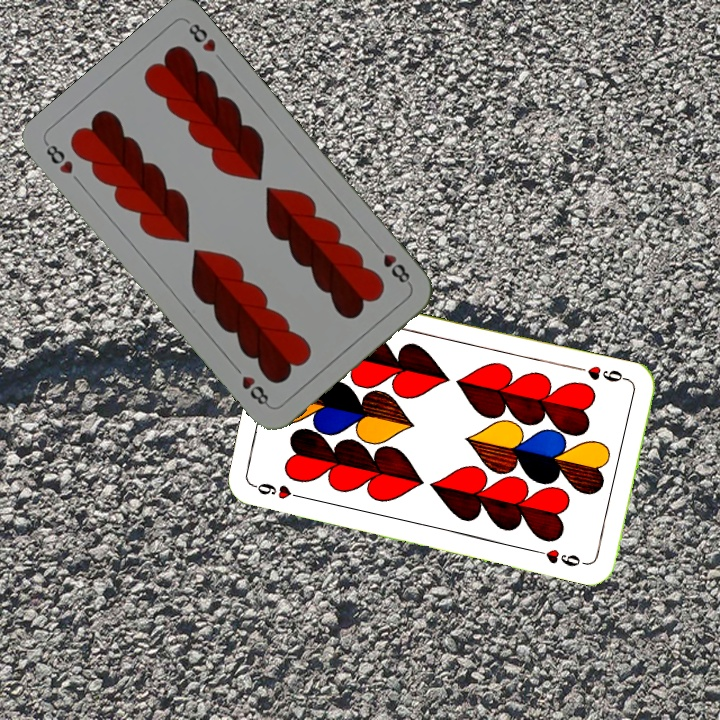H8: (370, 240, 414, 288), (41, 138, 76, 177)
H9: (573, 361, 632, 385), (249, 479, 308, 502)
